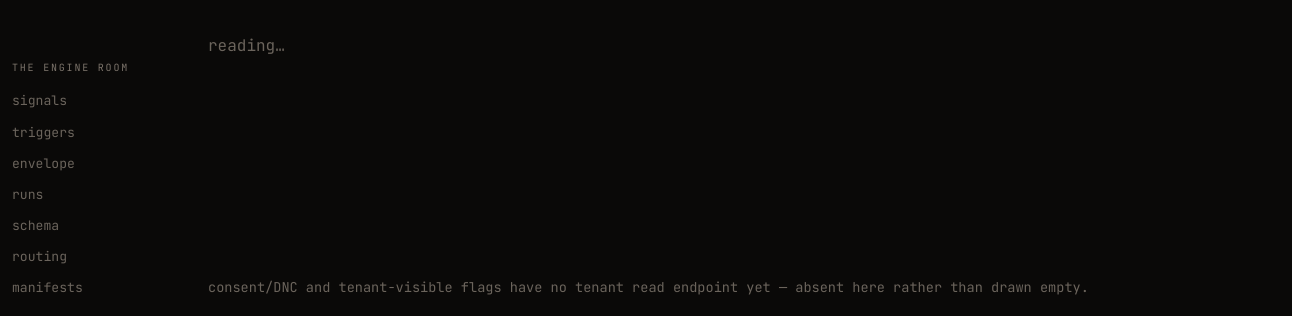
it: the undercroft › the manifest inspector shows verdicts and cache age — rejections included
Click the button "manifests": (47, 288) [12,277,83,300]
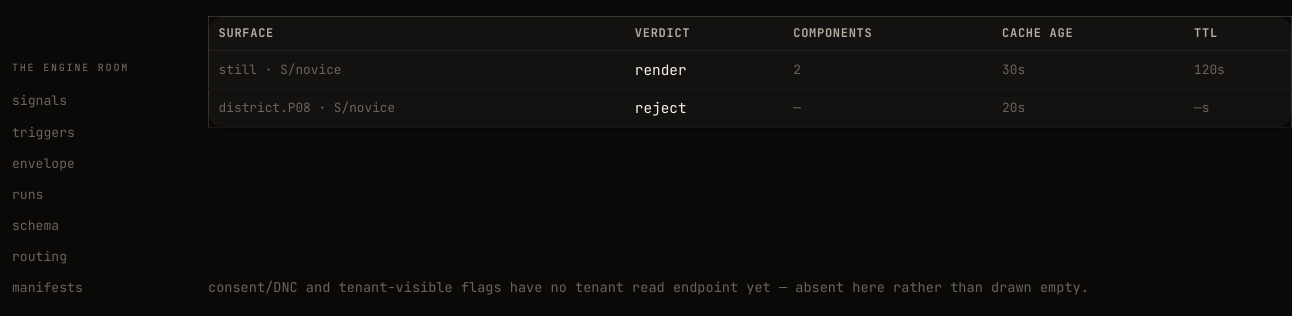
Check: the table is shown, box [208,16,1291,128]
Check: the text "30s" is shown, box [992,51,1184,89]
